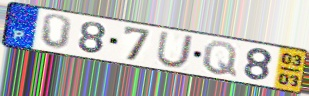0: (40, 13, 73, 51)
7: (121, 25, 155, 63)
8: (77, 21, 108, 55), (243, 47, 273, 82)
Q: (201, 40, 239, 79)
U: (154, 30, 196, 70)
